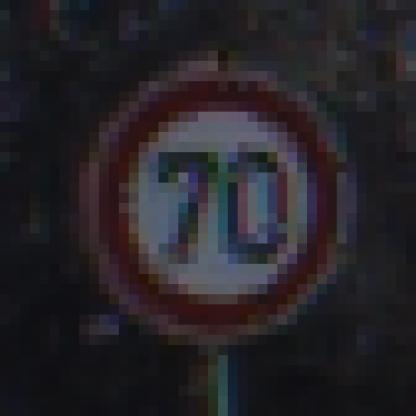Speed Limit 70: (91, 74, 345, 332)
